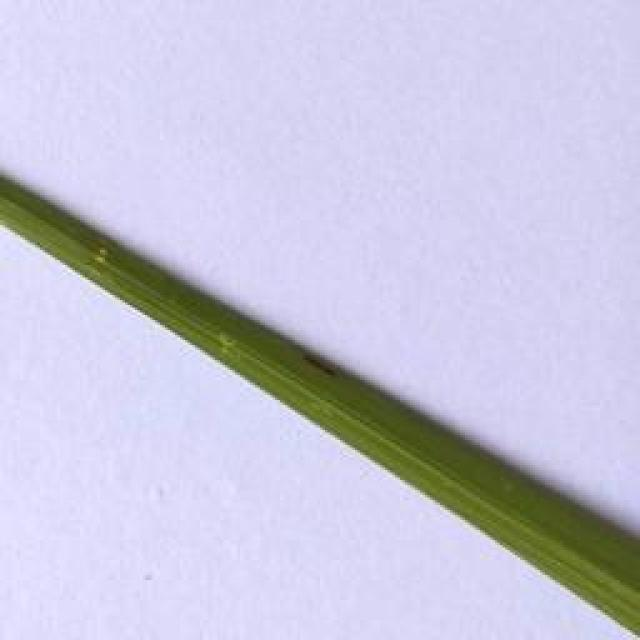Brown_Spot: (294, 346, 342, 380)
